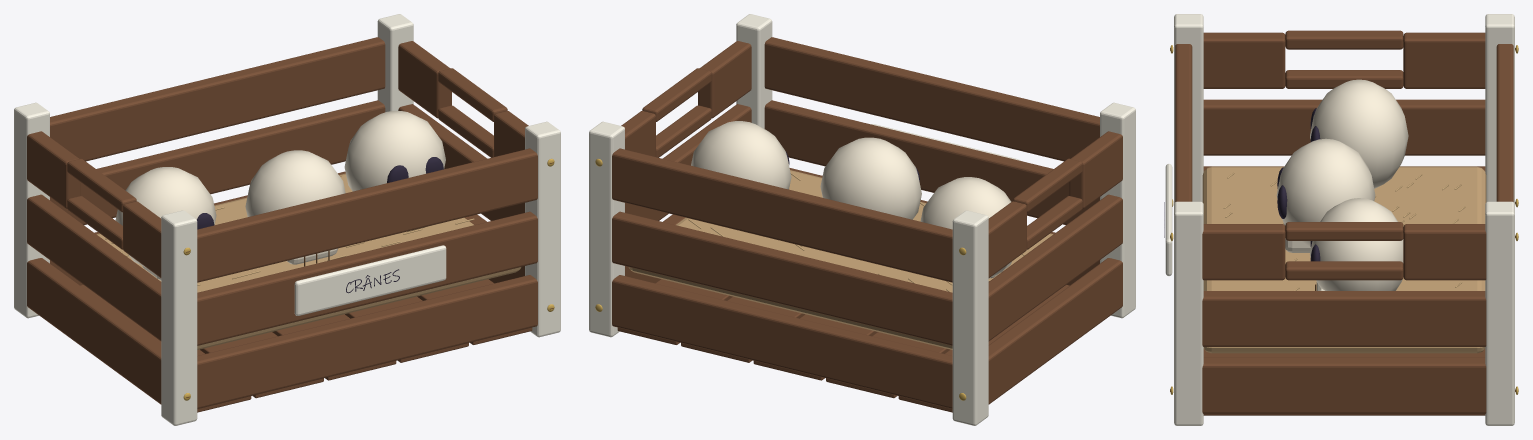
File: crate_skulls.glb
3 views of the same model, side by side, from view 1: azimuth 30°, elevation 25°; view 2: azimuth 150°, elevation 25°; view 3: azimuth 270°, elevation 25° (orthographic). The views are drawn at different scales.
Parts seen in each view (by area): view 1: Front_rear_slat.005, Front_rear_slat.003, Front_rear_slat.002, Front_rear_slat.004, Front_rear_slat.001, Side_lower_slat.001, Side_lower_slat, Corner_upright.001, Corner_upright.003, Removable_inventory_label, Resting_ivory_skull.002, Removable_straw_liner (+18 smaller); view 2: Front_rear_slat.002, Front_rear_slat, Front_rear_slat.001, Front_rear_slat.005, Front_rear_slat.004, Side_lower_slat.001, Side_lower_slat, Corner_upright, Resting_ivory_skull.001, Corner_upright.002, Removable_straw_liner, Resting_ivory_skull.002 (+17 smaller); view 3: Side_lower_slat.002, Side_lower_slat.003, Removable_straw_liner, Side_lower_slat.001, Corner_upright.002, Corner_upright.003, Resting_ivory_skull, Resting_ivory_skull.001, Side_handle_cheek.002, Side_handle_cheek.003, Side_handle_cheek, Side_handle_cheek.001 (+12 smaller).
Boxes of the visible parts, box(x1,y1,x2,y2) form: Front_rear_slat.005: box(197, 148, 537, 282); Front_rear_slat.003: box(197, 275, 537, 408); Front_rear_slat.002: box(50, 37, 385, 161); Front_rear_slat.004: box(197, 211, 537, 345); Front_rear_slat.001: box(50, 100, 385, 224); Side_lower_slat.001: box(27, 194, 161, 341); Side_lower_slat: box(27, 258, 161, 404); Corner_upright.001: box(161, 210, 197, 425); Corner_upright.003: box(525, 121, 560, 337); Removable_inventory_label: box(294, 245, 446, 315); Resting_ivory_skull.002: box(344, 111, 445, 191); Removable_straw_liner: box(96, 173, 521, 349); Front_rear_slat.002: box(612, 148, 952, 282); Front_rear_slat: box(612, 275, 952, 408); Front_rear_slat.001: box(612, 211, 952, 345); Front_rear_slat.005: box(764, 37, 1099, 161); Front_rear_slat.004: box(764, 100, 1099, 224); Side_lower_slat.001: box(988, 194, 1122, 341); Side_lower_slat: box(988, 258, 1122, 404); Corner_upright: box(952, 210, 988, 425); Resting_ivory_skull.001: box(820, 137, 921, 219); Corner_upright.002: box(589, 121, 624, 337); Removable_straw_liner: box(628, 170, 1053, 349); Resting_ivory_skull.002: box(691, 121, 791, 189); Side_lower_slat.002: box(1202, 357, 1486, 413); Side_lower_slat.003: box(1202, 291, 1486, 346); Removable_straw_liner: box(1202, 166, 1486, 353); Side_lower_slat.001: box(1203, 99, 1485, 155); Corner_upright.002: box(1485, 201, 1514, 425); Corner_upright.003: box(1174, 201, 1203, 425); Resting_ivory_skull: box(1310, 79, 1408, 188); Resting_ivory_skull.001: box(1276, 138, 1375, 246); Side_handle_cheek.002: box(1403, 224, 1486, 280); Side_handle_cheek.003: box(1202, 224, 1285, 280); Side_handle_cheek: box(1403, 32, 1485, 88); Side_handle_cheek.001: box(1203, 32, 1285, 88).
Bounding box in the file's own units: 0.642 × 0.32 × 0.4803.
